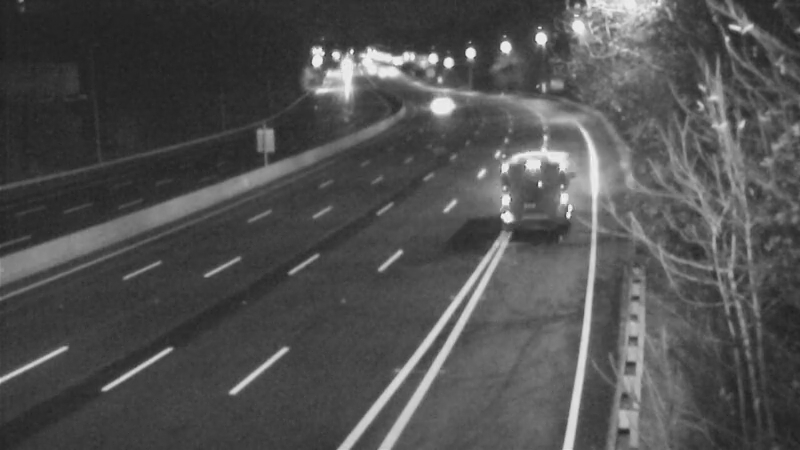vehicle: (490, 148, 570, 228), (413, 77, 463, 127)
